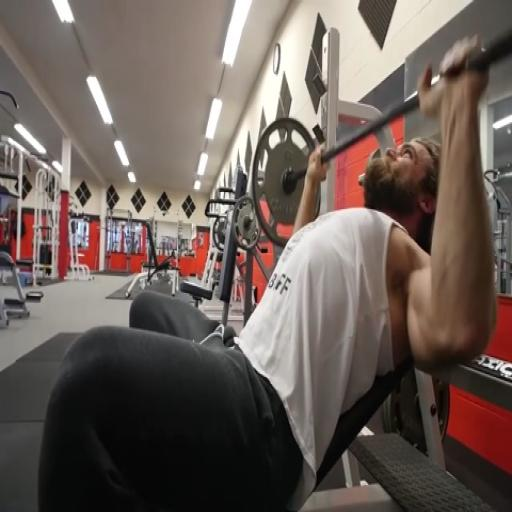exercise: (34, 32, 499, 510)
